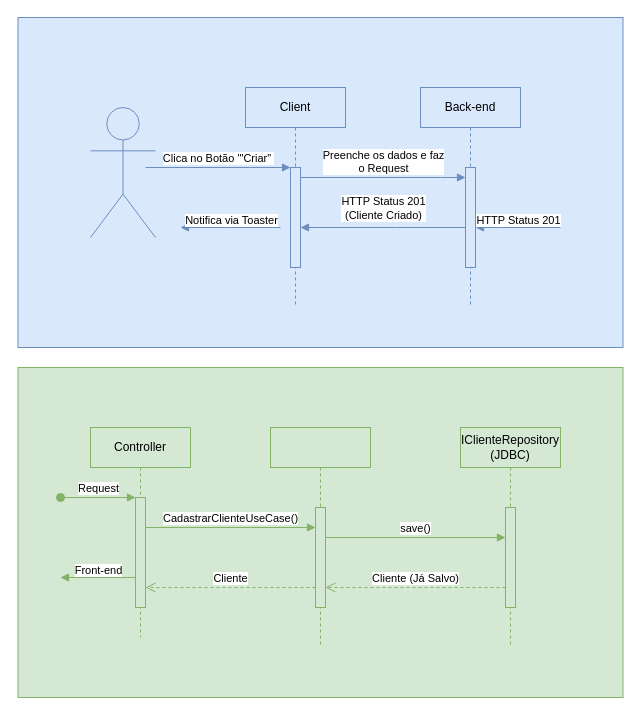
Some shapes in this 640 by 715 pixel diagram are drawn without their labels. Each missing label, with the centre of its shape:
"Caso de Uso" goes at (320,537).
"Usuario" goes at (123,172).
